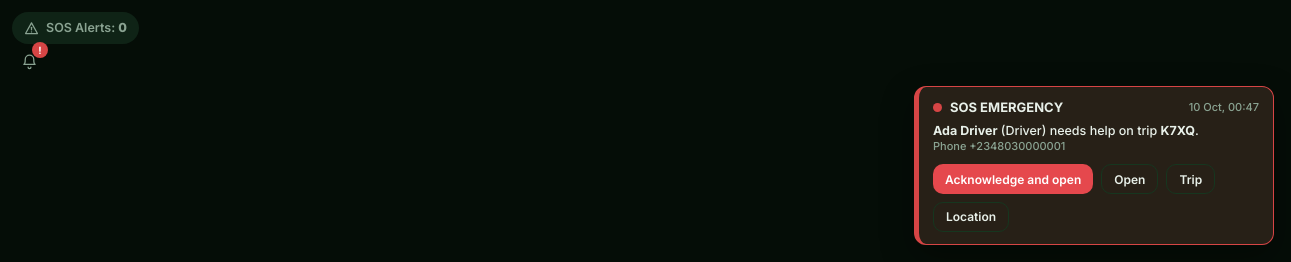
admin pop-ups › shows an SOS at once, keeps it until acknowledged, and says who and where
Check: the text "Ada Driver" is shown, box [933,122,998,138]
Check: the text "K7XQ" is shown, box [1160,122,1195,138]
Click the button "Acknowledge and open" at (1013, 179), box [933,164,1093,194]
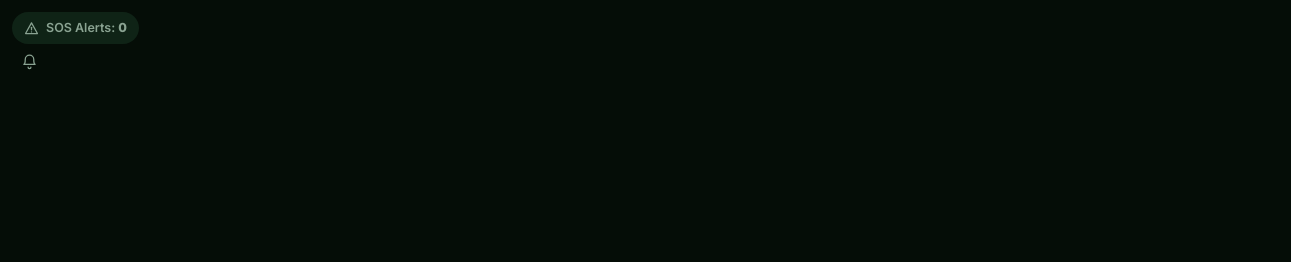
Check: the text "SOS EMERGENCY" is gone
